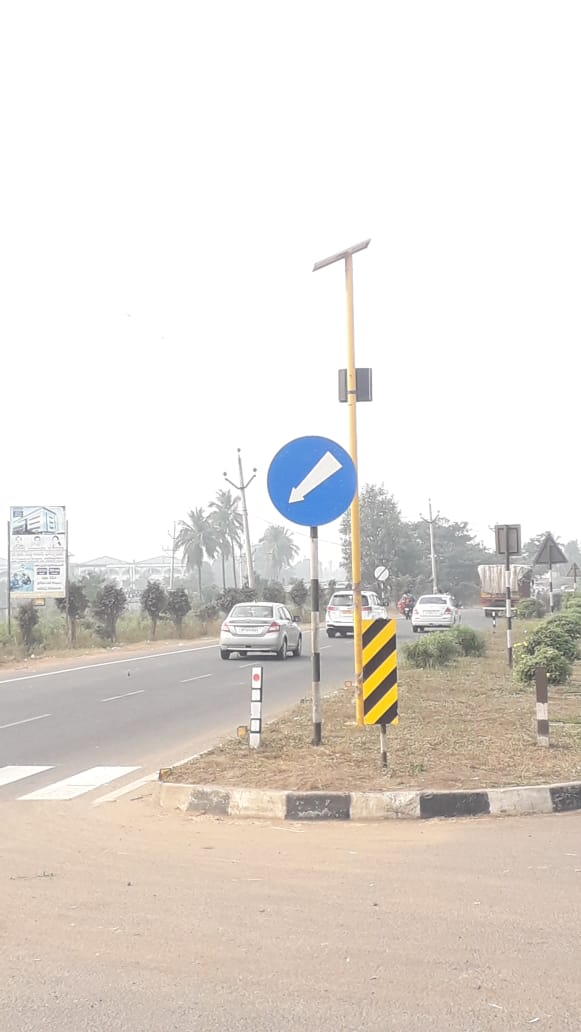go left: (265, 428, 376, 549)
